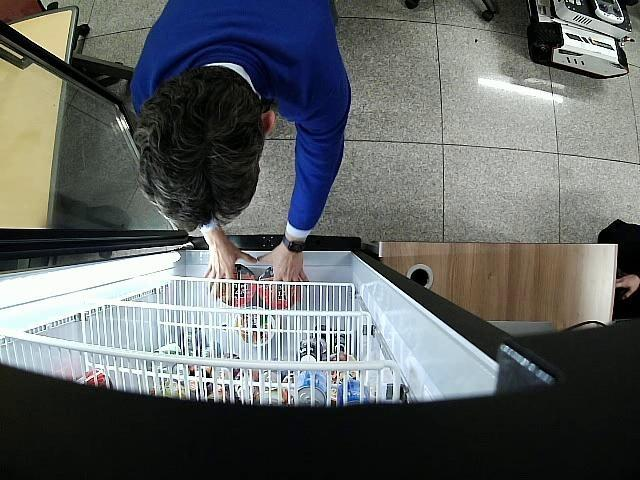01_ShinRamen_L: (257, 266, 295, 310), (220, 264, 256, 306)
